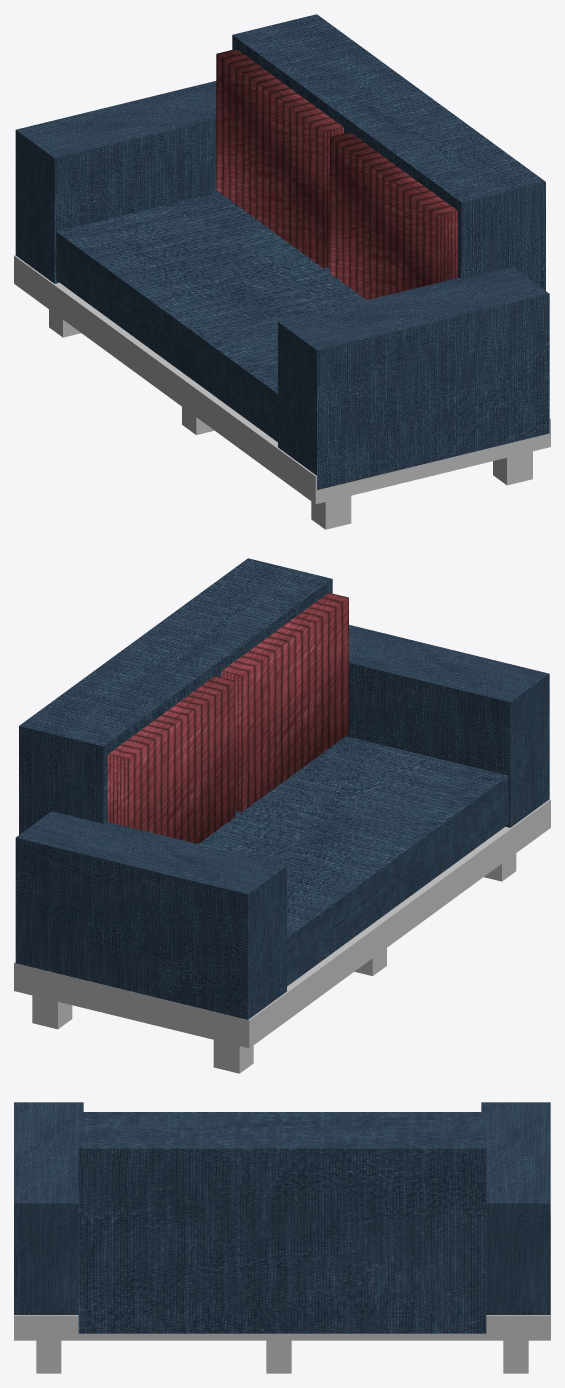
File: Sofa1.fbx
3 renders of one model, top to bottom at view 1: azimuth 30°, elevation 25°; view 2: azimuth 150°, elevation 25°; view 3: azimuth 270°, elevation 25°, orthographic. The views are drawn at different scales.
Parts seen in each view (by area): view 1: Cube.008, Cube.012, Cube.009, Cube.007, Cube.010, Cube.011, Cube.006, Cube, Cube.001; view 2: Cube.007, Cube.012, Cube.009, Cube.008, Cube.011, Cube.006, Cube.010, Cube.004, Cube.005; view 3: Cube.009, Cube.007, Cube.008, Cube.006, Cube.003, Cube.005, Cube.001.
Part boxes in pixels (x1,y1,x2,y2): Cube.008: (278,267,549,489); Cube.012: (56,192,366,441); Cube.009: (232,14,545,290); Cube.007: (15,81,218,283); Cube.010: (216,49,343,268); Cube.011: (330,132,457,299); Cube.006: (14,255,550,504); Cube: (311,496,351,529); Cube.001: (493,451,532,485); Cube.007: (15,811,286,1019); Cube.012: (199,736,508,986); Cube.009: (19,558,332,834); Cube.008: (346,625,549,827); Cube.011: (221,592,348,812); Cube.006: (14,799,550,1048); Cube.010: (107,676,235,843); Cube.004: (213,1040,253,1073); Cube.005: (32,995,72,1029); Cube.009: (78,1112,486,1333); Cube.007: (481,1102,550,1314); Cube.008: (14,1102,83,1314); Cube.006: (14,1213,550,1340); Cube.003: (266,1340,291,1373); Cube.005: (503,1340,528,1373); Cube.001: (36,1340,61,1373).
Size of the model in its own units: 559 by 543 by 1096.
